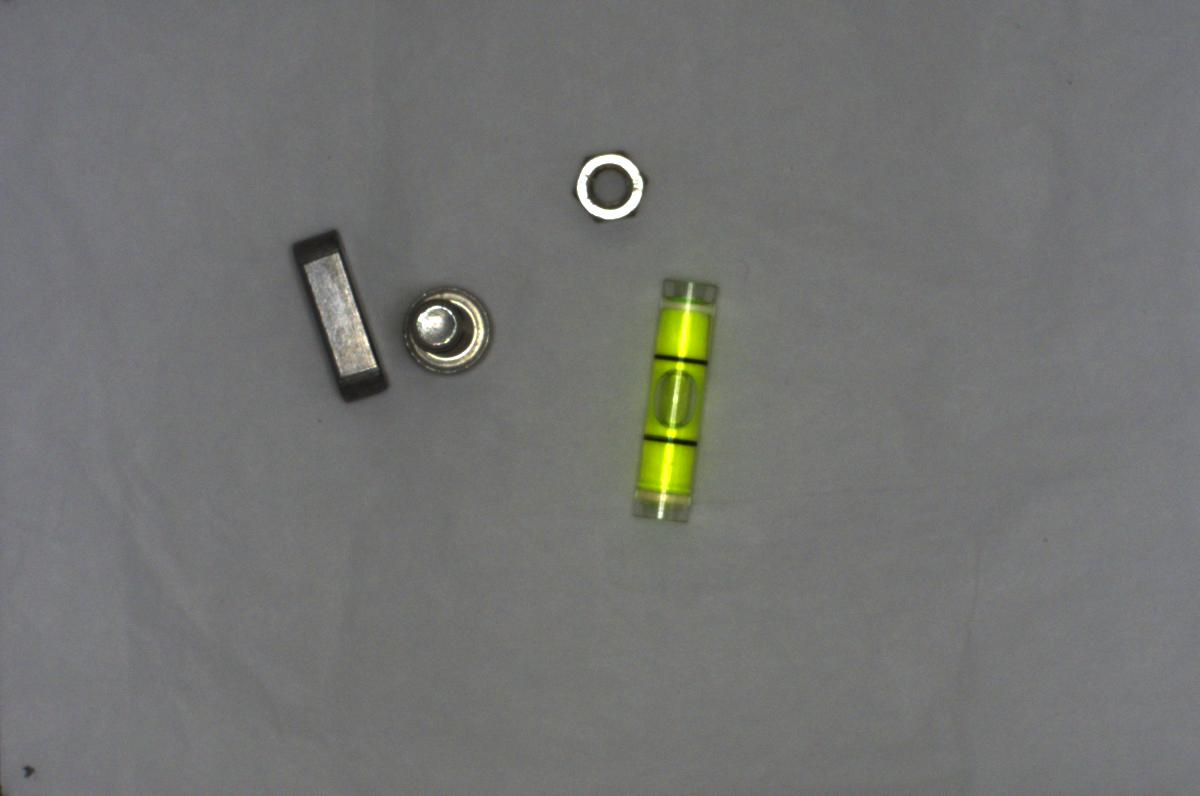Hexagon nut: (566, 141, 651, 230)
Hexagon screw: (392, 279, 495, 381)
Horizontal bubble: (619, 273, 735, 525)
Keybar: (274, 218, 404, 407)
